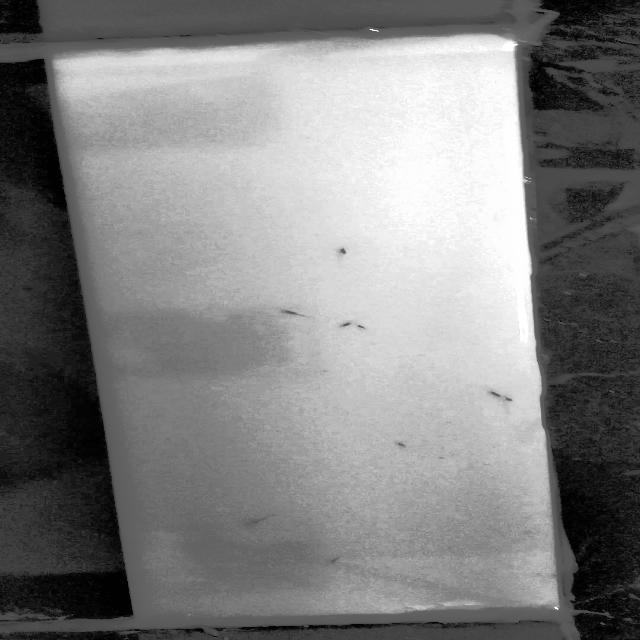shrimp: (231, 512, 280, 532), (325, 239, 356, 264), (261, 302, 303, 320), (318, 548, 351, 570), (381, 434, 417, 452), (356, 307, 377, 336), (332, 312, 358, 334), (483, 387, 504, 399)
